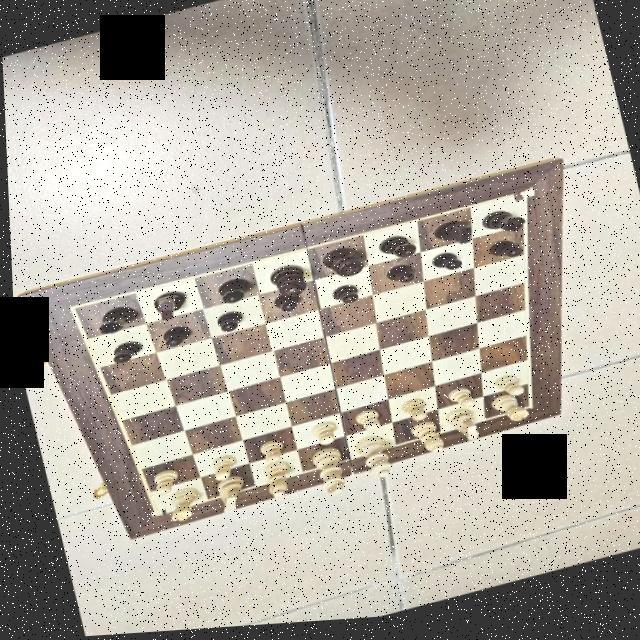chess-table-corners: (510, 192, 532, 208), (61, 302, 78, 314), (146, 510, 162, 522), (520, 409, 532, 417)
